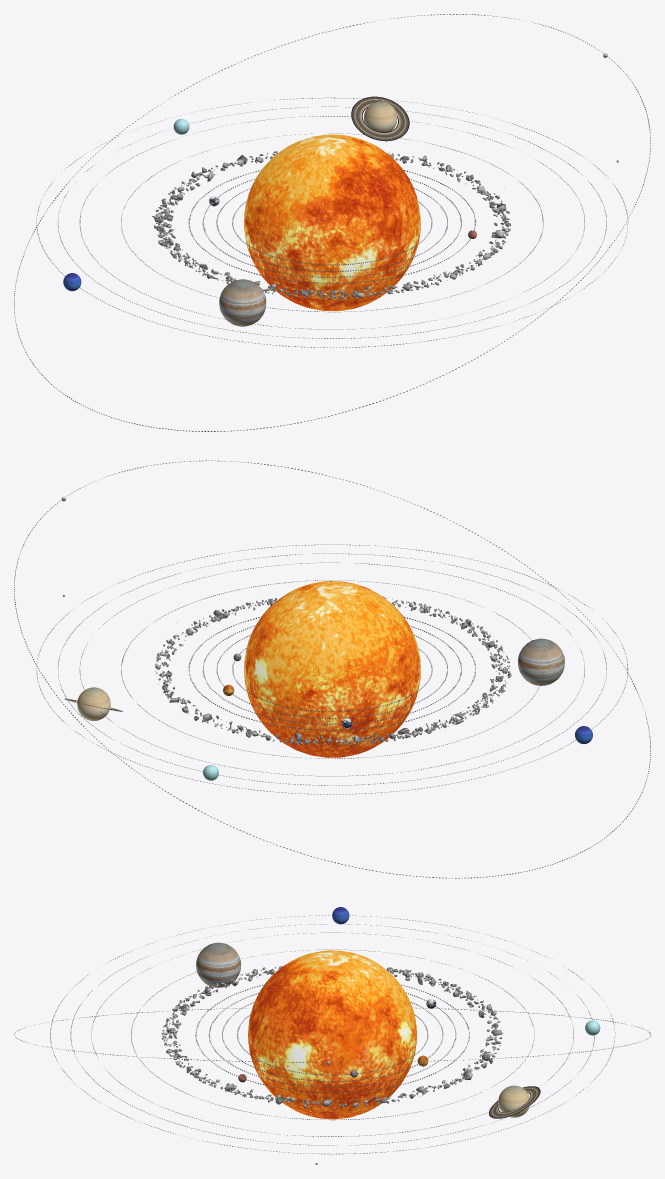
The model's file is solar.glb.
The picture shows the model from 3 angles, top to bottom: view 1: azimuth 30°, elevation 25°; view 2: azimuth 150°, elevation 25°; view 3: azimuth 270°, elevation 25°; orthographic projection. The views are drawn at different scales.
Visible parts, largest first — view 1: slunce001, NGon001, kamen_G, jupiter001, jupiter_lookat001, saturn_planeta001; view 2: slunce001, NGon001, kamen_G, jupiter001, saturn_planeta001; view 3: slunce001, NGon001, kamen_G, jupiter001, saturn_planeta001, jupiter_lookat001.
Boxes of the visible parts, x1,y1,x2,y2 form: slunce001: [244, 134, 420, 311]; NGon001: [14, 14, 650, 431]; kamen_G: [152, 151, 510, 299]; jupiter001: [219, 279, 266, 326]; jupiter_lookat001: [351, 96, 409, 141]; saturn_planeta001: [363, 101, 397, 132]; slunce001: [244, 581, 420, 757]; NGon001: [14, 460, 650, 878]; kamen_G: [155, 596, 511, 745]; jupiter001: [518, 638, 564, 685]; saturn_planeta001: [77, 687, 110, 720]; slunce001: [248, 950, 416, 1119]; NGon001: [14, 915, 650, 1154]; kamen_G: [161, 966, 502, 1108]; jupiter001: [196, 942, 241, 987]; saturn_planeta001: [498, 1085, 529, 1117]; jupiter_lookat001: [489, 1086, 540, 1118].
Bounding box in the file's own units: 14902 × 5399 × 15672.
Materials: 15 (15 with a texture image).
